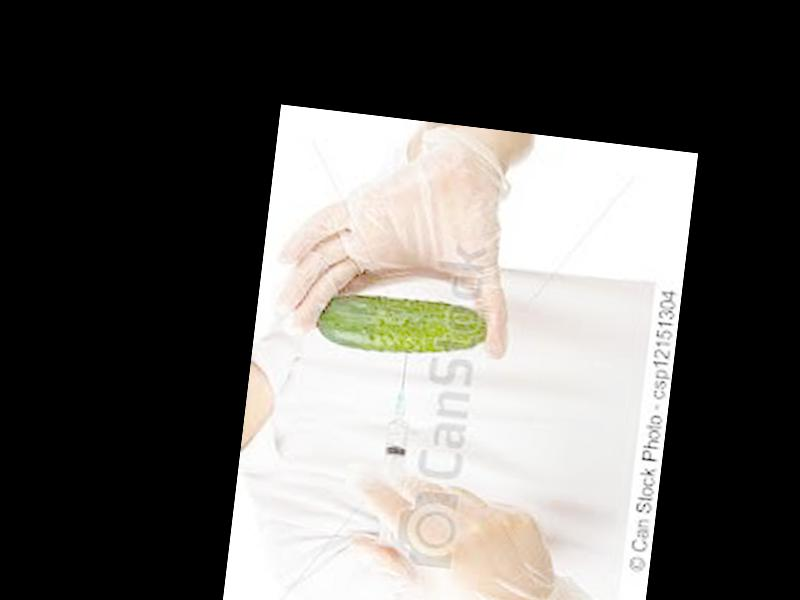Cucumber: (314, 286, 492, 362)
